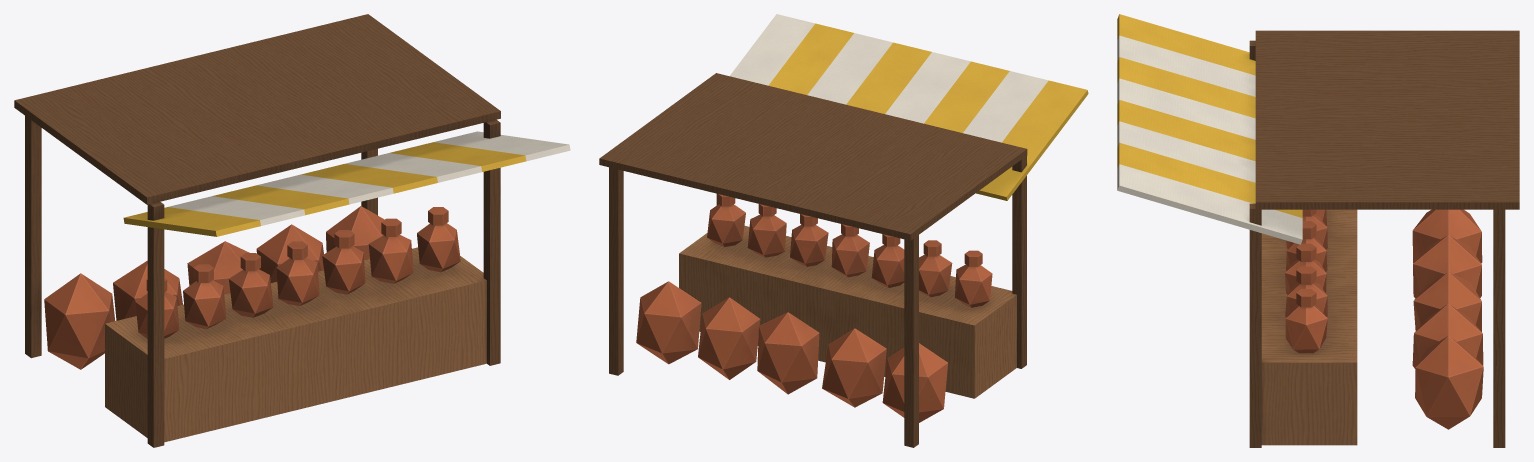
The model's file is basar_krukor_tex.glb.
The picture shows the model from 3 angles, left to right: view 1: azimuth 30°, elevation 25°; view 2: azimuth 150°, elevation 25°; view 3: azimuth 270°, elevation 25°; orthographic projection. The views are drawn at different scales.
Visible parts, largest first — view 1: basar_krukor; view 2: basar_krukor; view 3: basar_krukor.
Part boxes in pixels (bbox=[...]): basar_krukor: bbox=[14, 14, 570, 447]; basar_krukor: bbox=[599, 14, 1088, 447]; basar_krukor: bbox=[1117, 14, 1519, 447].
Bounding box in the file's own units: 4.03 × 2.9 × 3.96.
5 materials, 5 textured.
